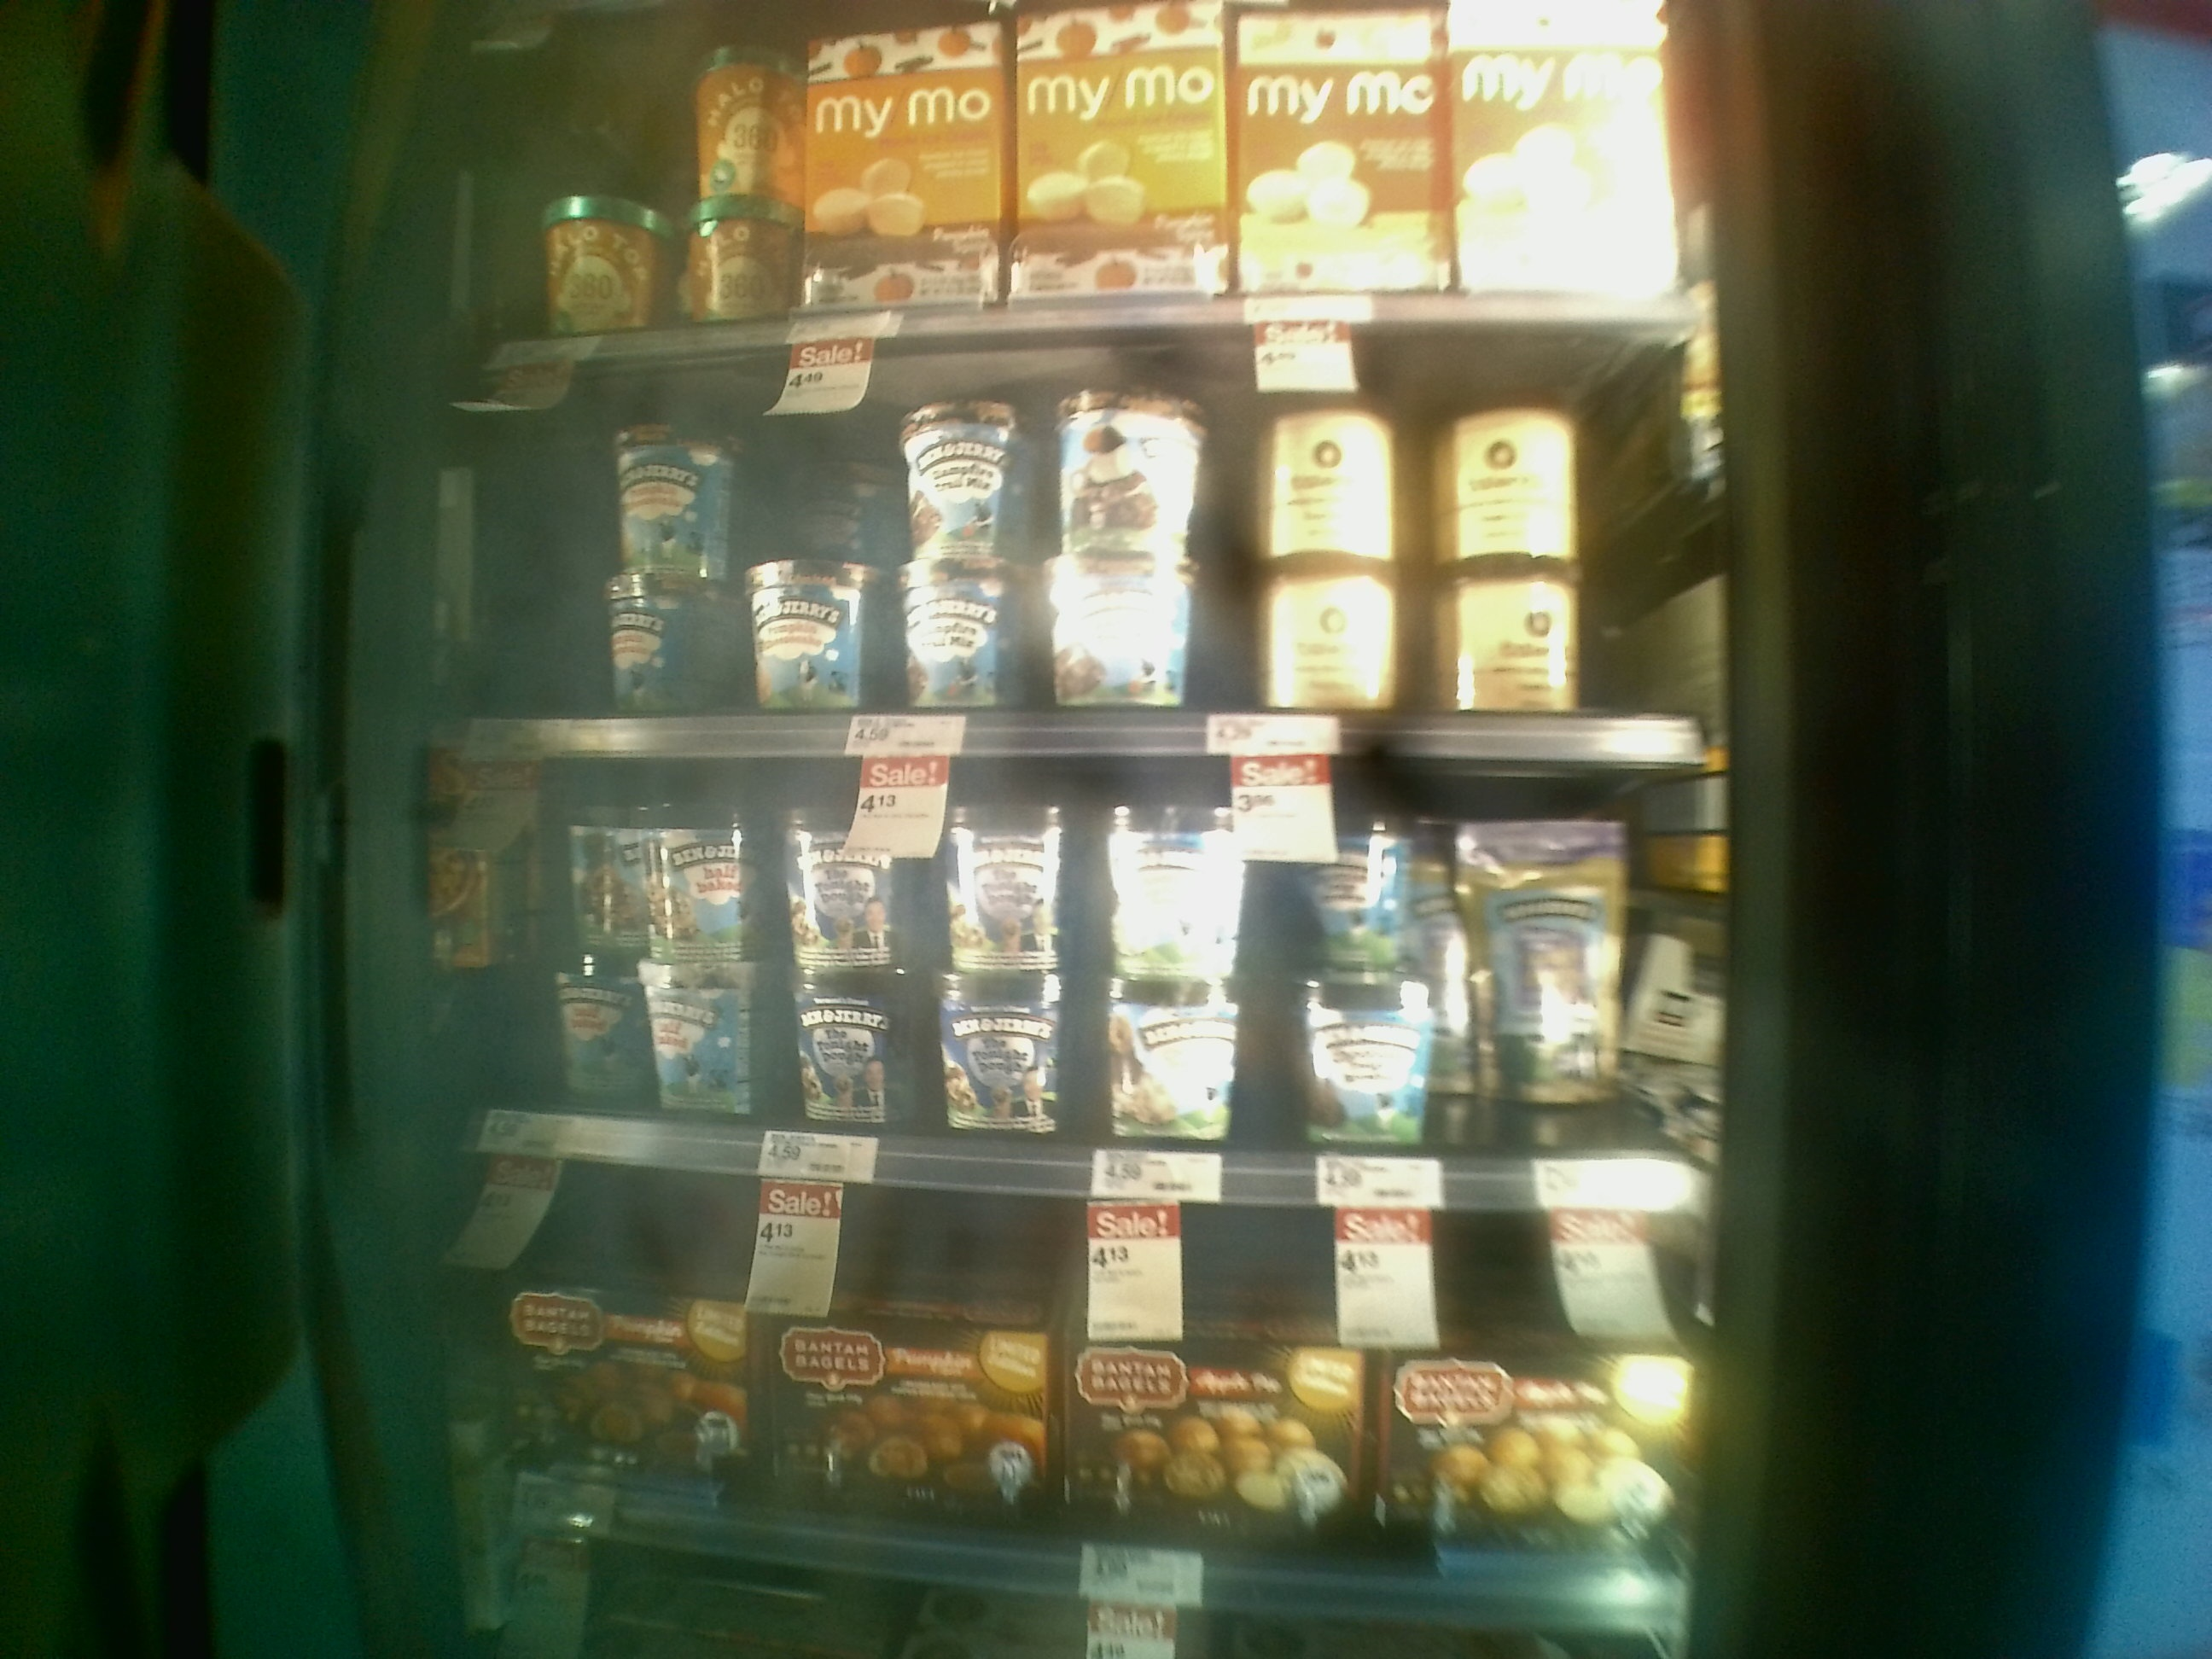shelf: (415, 1148, 1721, 1636), (425, 758, 1724, 1201), (430, 352, 1719, 760)
